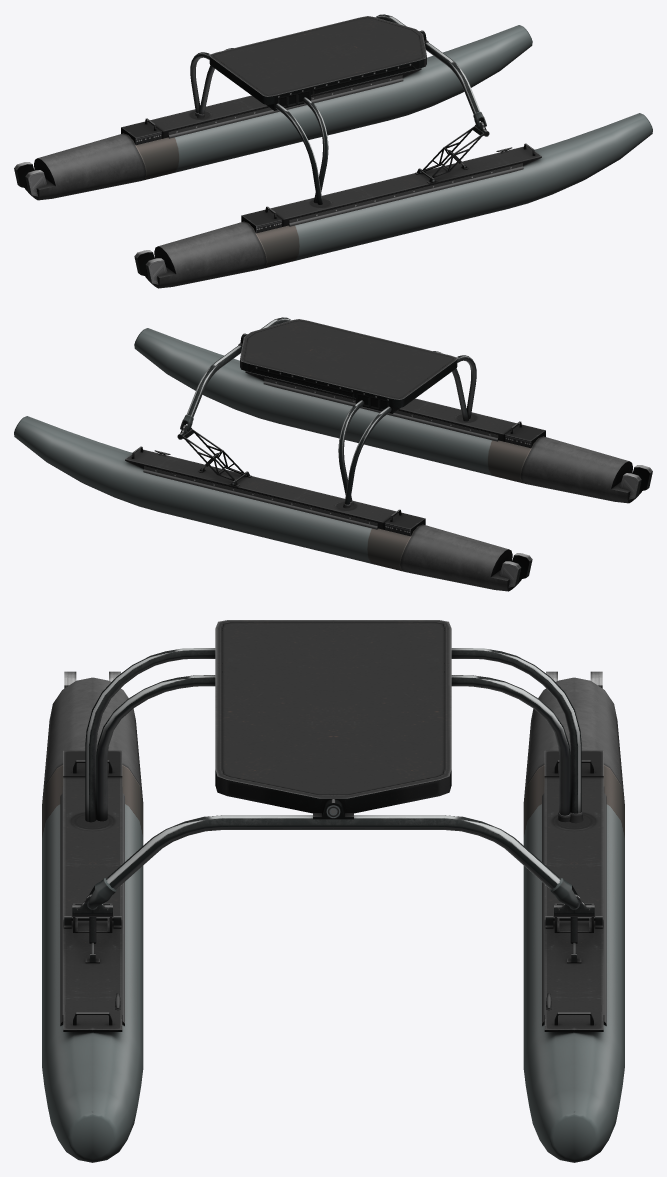
Rendered from WAM-V-Base.dae.
3 renders of one model, top to bottom at view 1: azimuth 30°, elevation 25°; view 2: azimuth 150°, elevation 25°; view 3: azimuth 270°, elevation 25°, orthographic. The views are drawn at different scales.
Visible parts, largest first — view 1: WamV; view 2: WamV; view 3: WamV.
Boxes of the visible parts, box(x1,y1,x2,y2) form: WamV: box(14, 14, 652, 288); WamV: box(14, 317, 652, 591); WamV: box(42, 620, 624, 1162).
Bounding box in the file's own units: 5.01 × 2.49 × 1.29.
Materials: 1 (1 with a texture image).
